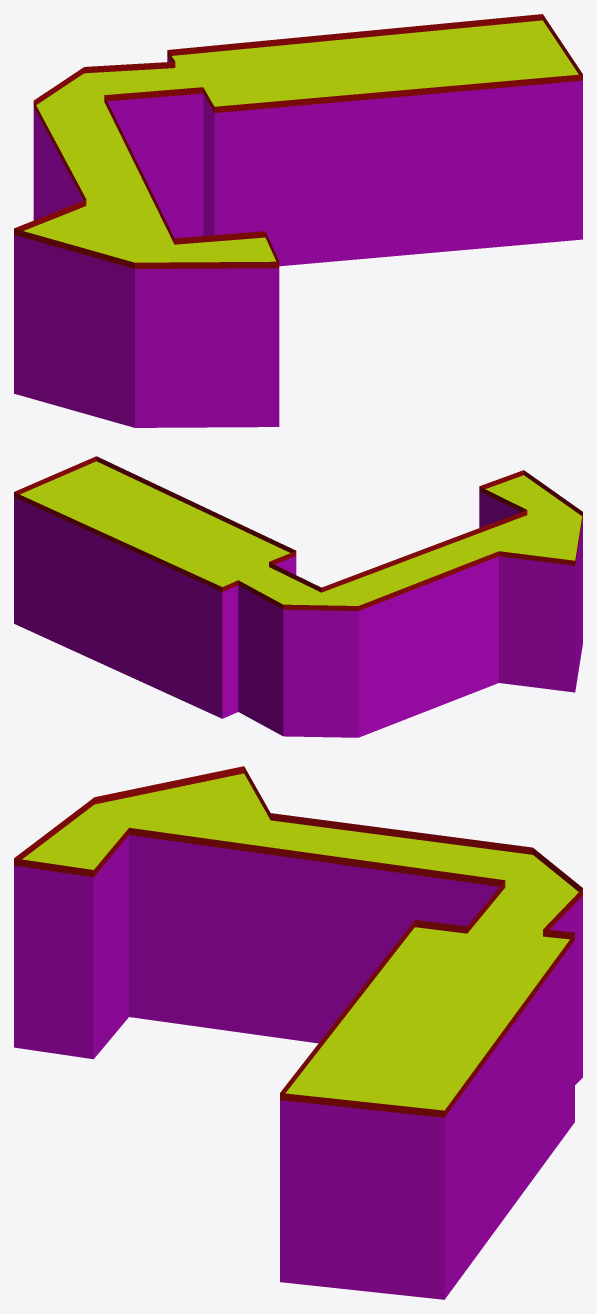
Rendered from sbl_29.glb.
3 renders of one model, top to bottom at view 1: azimuth 30°, elevation 25°; view 2: azimuth 150°, elevation 25°; view 3: azimuth 270°, elevation 25°, orthographic. The views are drawn at different scales.
Parts seen in each view (by area): view 1: sbl_29; view 2: sbl_29; view 3: sbl_29.
Part boxes in pixels (box(x1,y1,x2,y2)): sbl_29: box(14, 14, 582, 427); sbl_29: box(14, 456, 582, 737); sbl_29: box(14, 766, 582, 1299).
Size of the model in its own units: 35.43 by 9.08 by 24.73.
